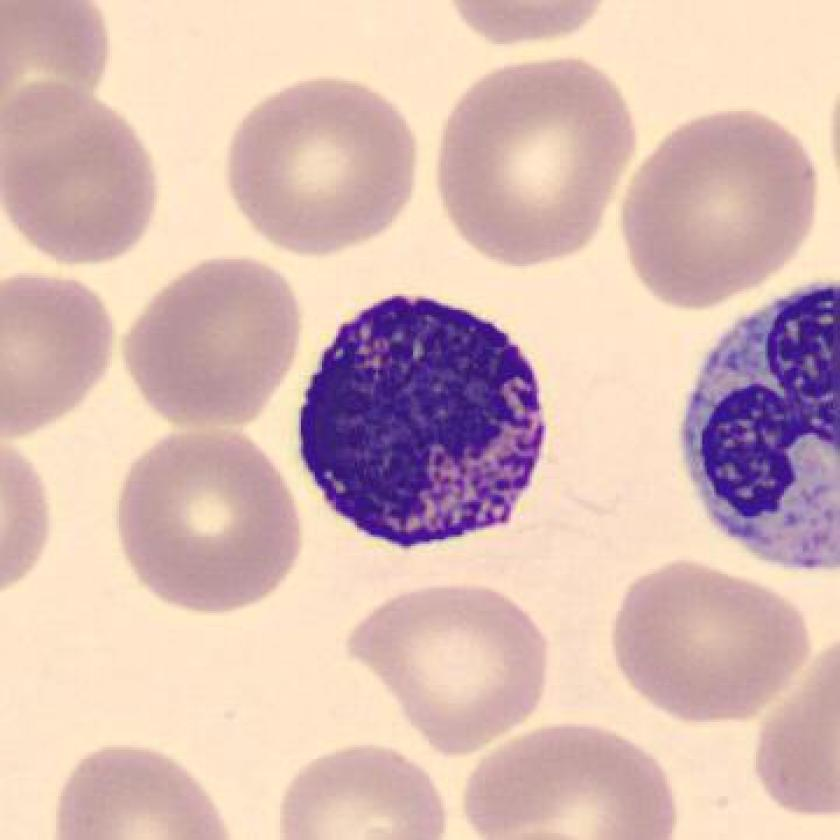basophil: (295, 286, 549, 552), (677, 271, 840, 577)
